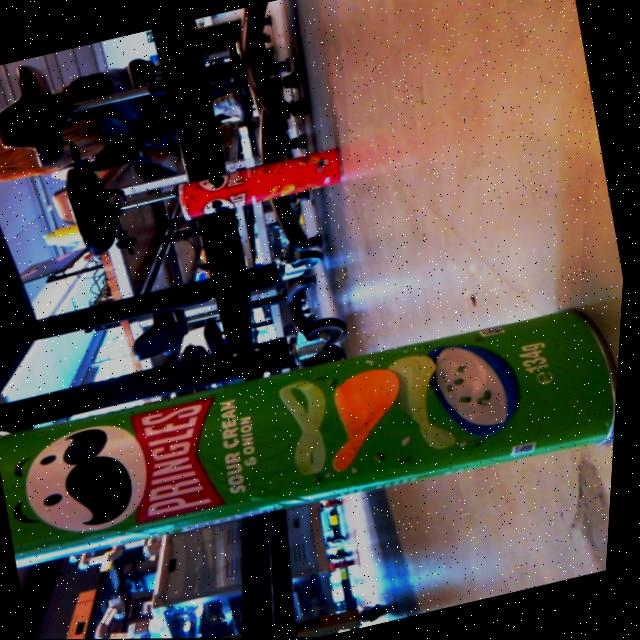greenpringles: (0, 254, 628, 604)
redpringles: (161, 137, 356, 232)
